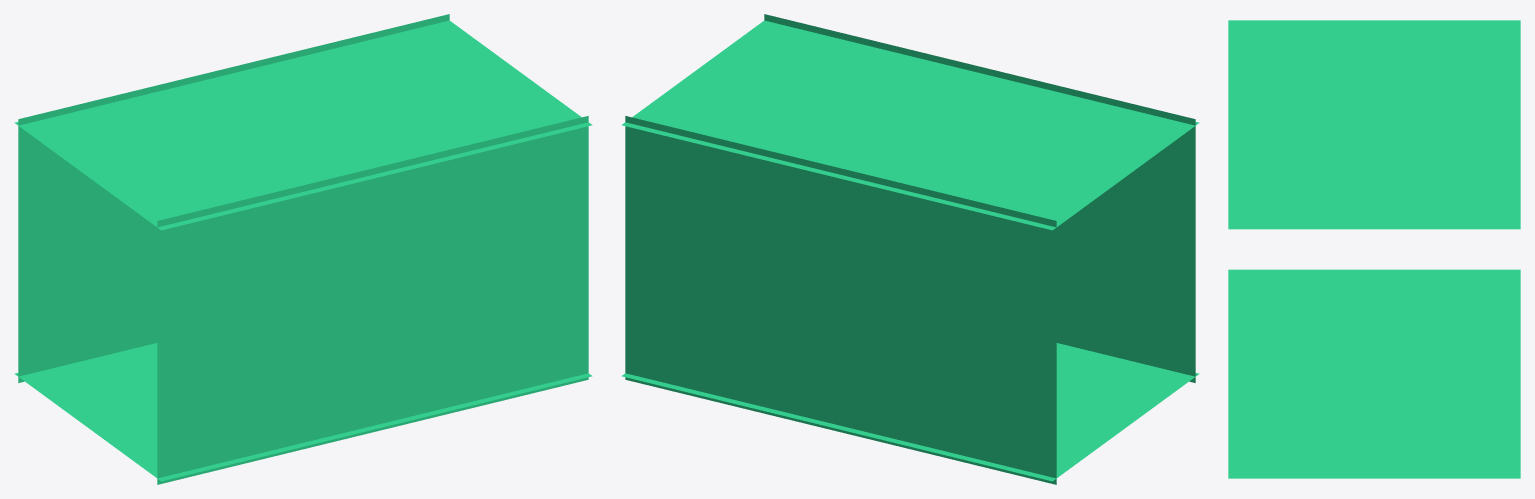
File: ColDuctStraight.fbx
3 renders of one model, left to right at view 1: azimuth 30°, elevation 25°; view 2: azimuth 150°, elevation 25°; view 3: azimuth 270°, elevation 25°, orthographic.
Visible parts, largest first — view 1: ColDuctStraight; view 2: ColDuctStraight; view 3: ColDuctStraight.
Boxes of the visible parts, x1,y1,x2,y2 form: ColDuctStraight: [14, 14, 592, 484]; ColDuctStraight: [621, 14, 1199, 484]; ColDuctStraight: [1228, 20, 1520, 478].
Size of the model in its own units: 200 by 117 by 118.
